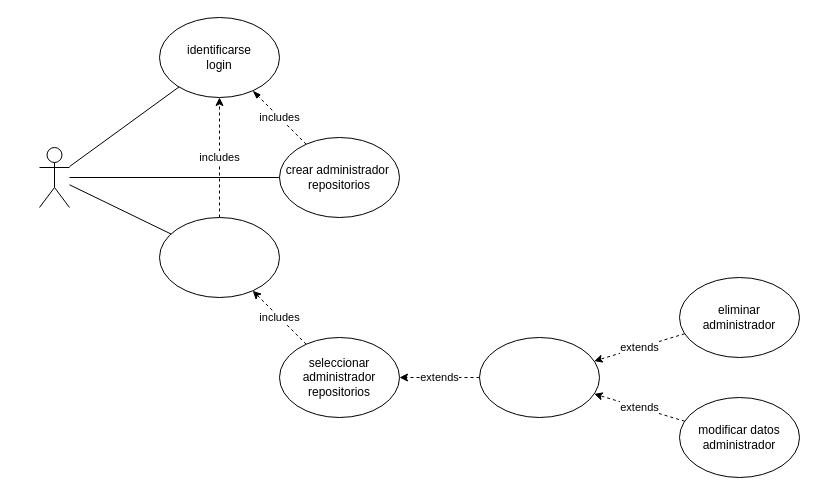
Some shapes in this 817 by 495 pixel diagram are drawn without their labels. Each missing label, with the centre of its shape:
Administrador general: the point at 54,177
modificar administrador repositorios: the point at 539,377
Mostrar administradores repositorio: the point at 219,257
